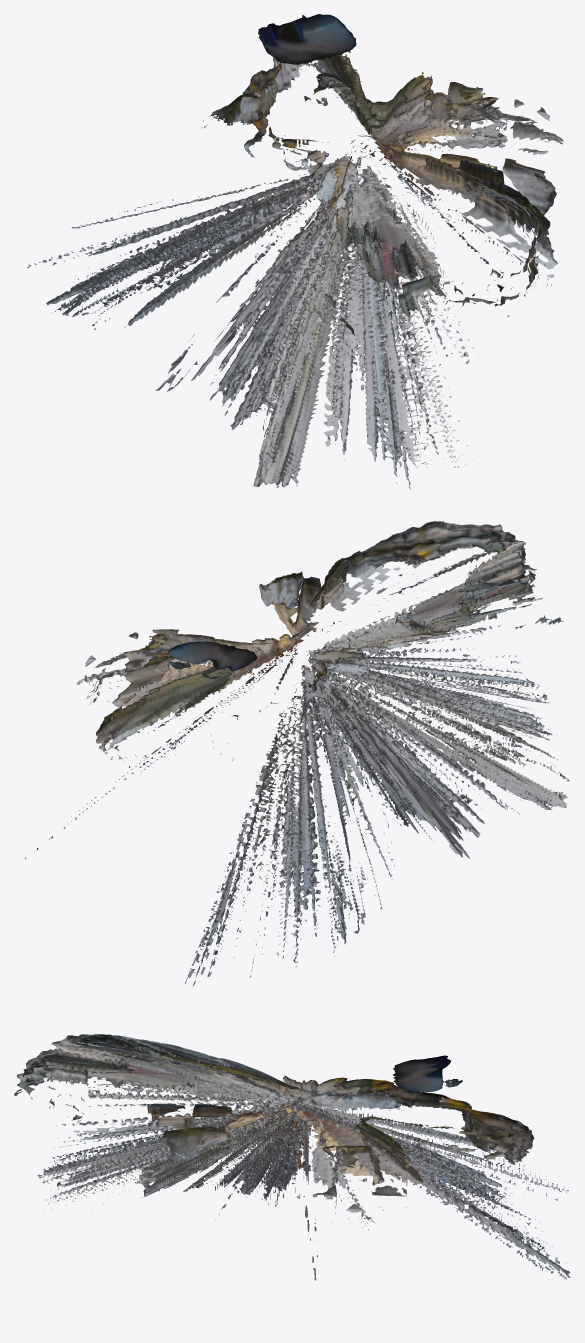
The model's file is world-1771061879434.glb.
The picture shows the model from 3 angles, top to bottom: view 1: azimuth 30°, elevation 25°; view 2: azimuth 150°, elevation 25°; view 3: azimuth 270°, elevation 25°; orthographic projection. The views are drawn at different scales.
Parts seen in each view (by area): view 1: world; view 2: world; view 3: world.
Boxes of the visible parts, box(x1,y1,x2,y2) form: world: box(27, 14, 563, 489); world: box(25, 521, 569, 986); world: box(14, 1034, 570, 1280).
Bounding box in the file's own units: 44.52 × 30.73 × 63.23.
